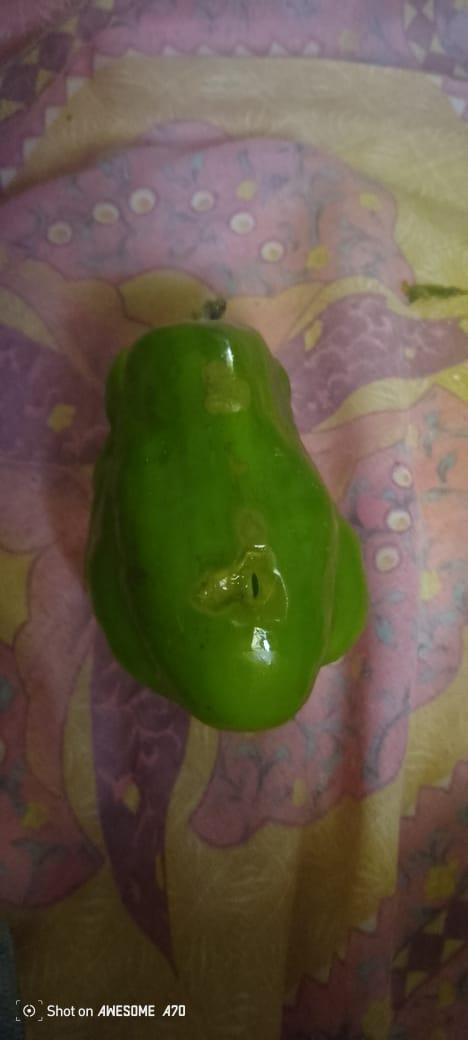non-mango: (100, 318, 369, 721)
